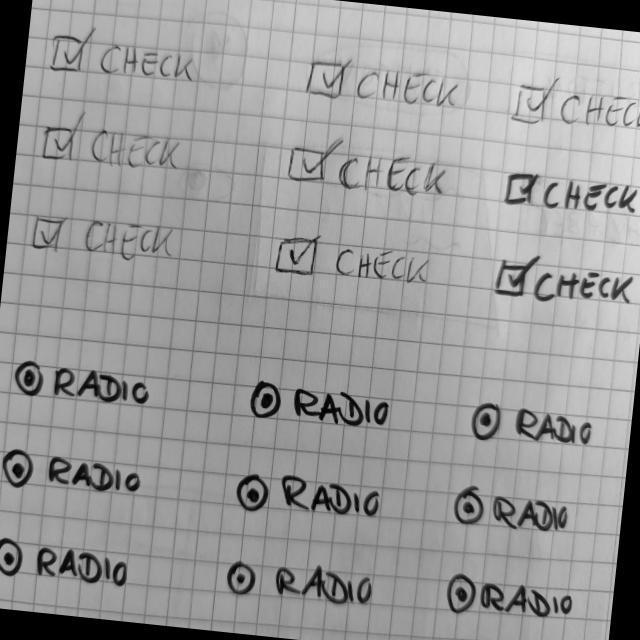checkbox: (284, 132, 454, 202), (38, 108, 190, 179), (46, 23, 204, 91), (273, 229, 438, 293), (303, 50, 465, 115), (506, 71, 640, 143), (29, 206, 182, 269), (492, 251, 639, 313), (499, 164, 640, 221)
radio: (230, 468, 274, 520), (224, 553, 263, 605), (467, 396, 507, 446), (246, 377, 286, 426), (450, 481, 489, 531), (444, 568, 480, 620), (9, 354, 48, 401), (1, 445, 36, 490), (1, 532, 26, 581)
